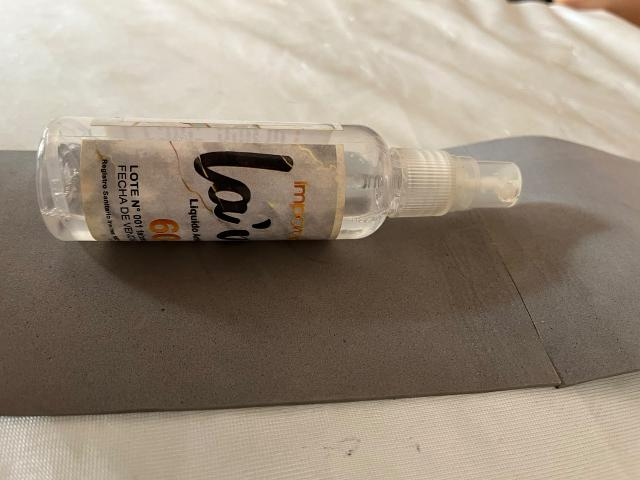PET: (3, 68, 569, 277)
